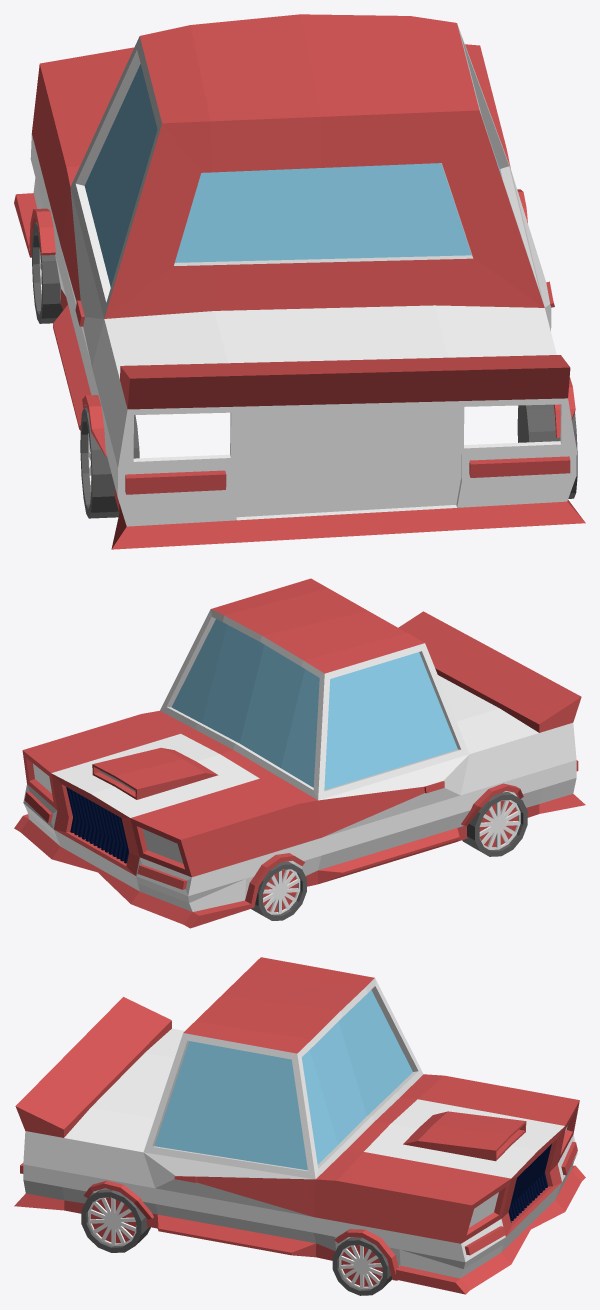
File: car.gltf
The picture shows the model from 3 angles, top to bottom: view 1: azimuth 30°, elevation 25°; view 2: azimuth 150°, elevation 25°; view 3: azimuth 270°, elevation 25°; orthographic projection. The views are drawn at different scales.
Parts seen in each view (by area): view 1: wheel.1; view 2: wheel.1; view 3: wheel.1.
Boxes of the visible parts, box(x1,y1,x2,y2) form: wheel.1: box(14, 14, 585, 549); wheel.1: box(14, 578, 585, 928); wheel.1: box(14, 957, 585, 1295).
Bounding box in the file's own units: 2.16 × 1.11 × 2.64.
